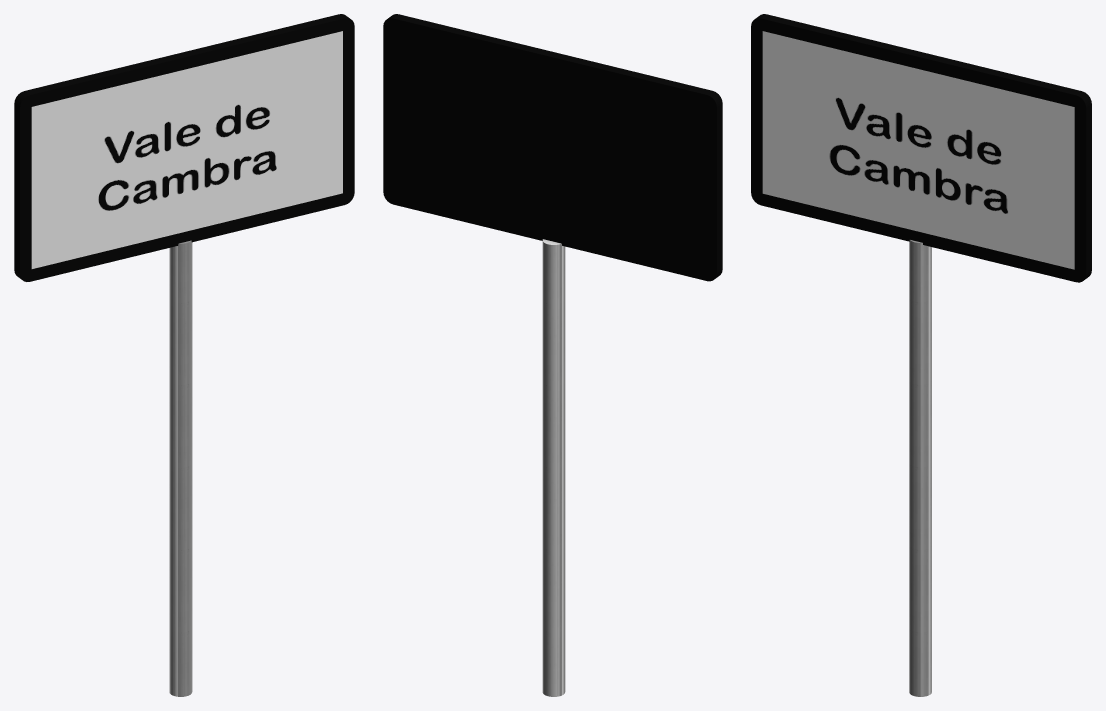
The model's file is Vale de Cambra.gltf.
The picture shows the model from 3 angles, left to right: view 1: azimuth 30°, elevation 25°; view 2: azimuth 150°, elevation 25°; view 3: azimuth 330°, elevation 25°; orthographic projection.
Visible parts, largest first — view 1: root; view 2: root; view 3: root.
Part boxes in pixels (left/top/right/bottom): root: left=14, top=14, right=354, bottom=696; root: left=383, top=14, right=722, bottom=696; root: left=751, top=14, right=1091, bottom=696.
Bounding box in the file's own units: 0.4318 × 0.7865 × 0.0254.
4 materials, 2 textured.
